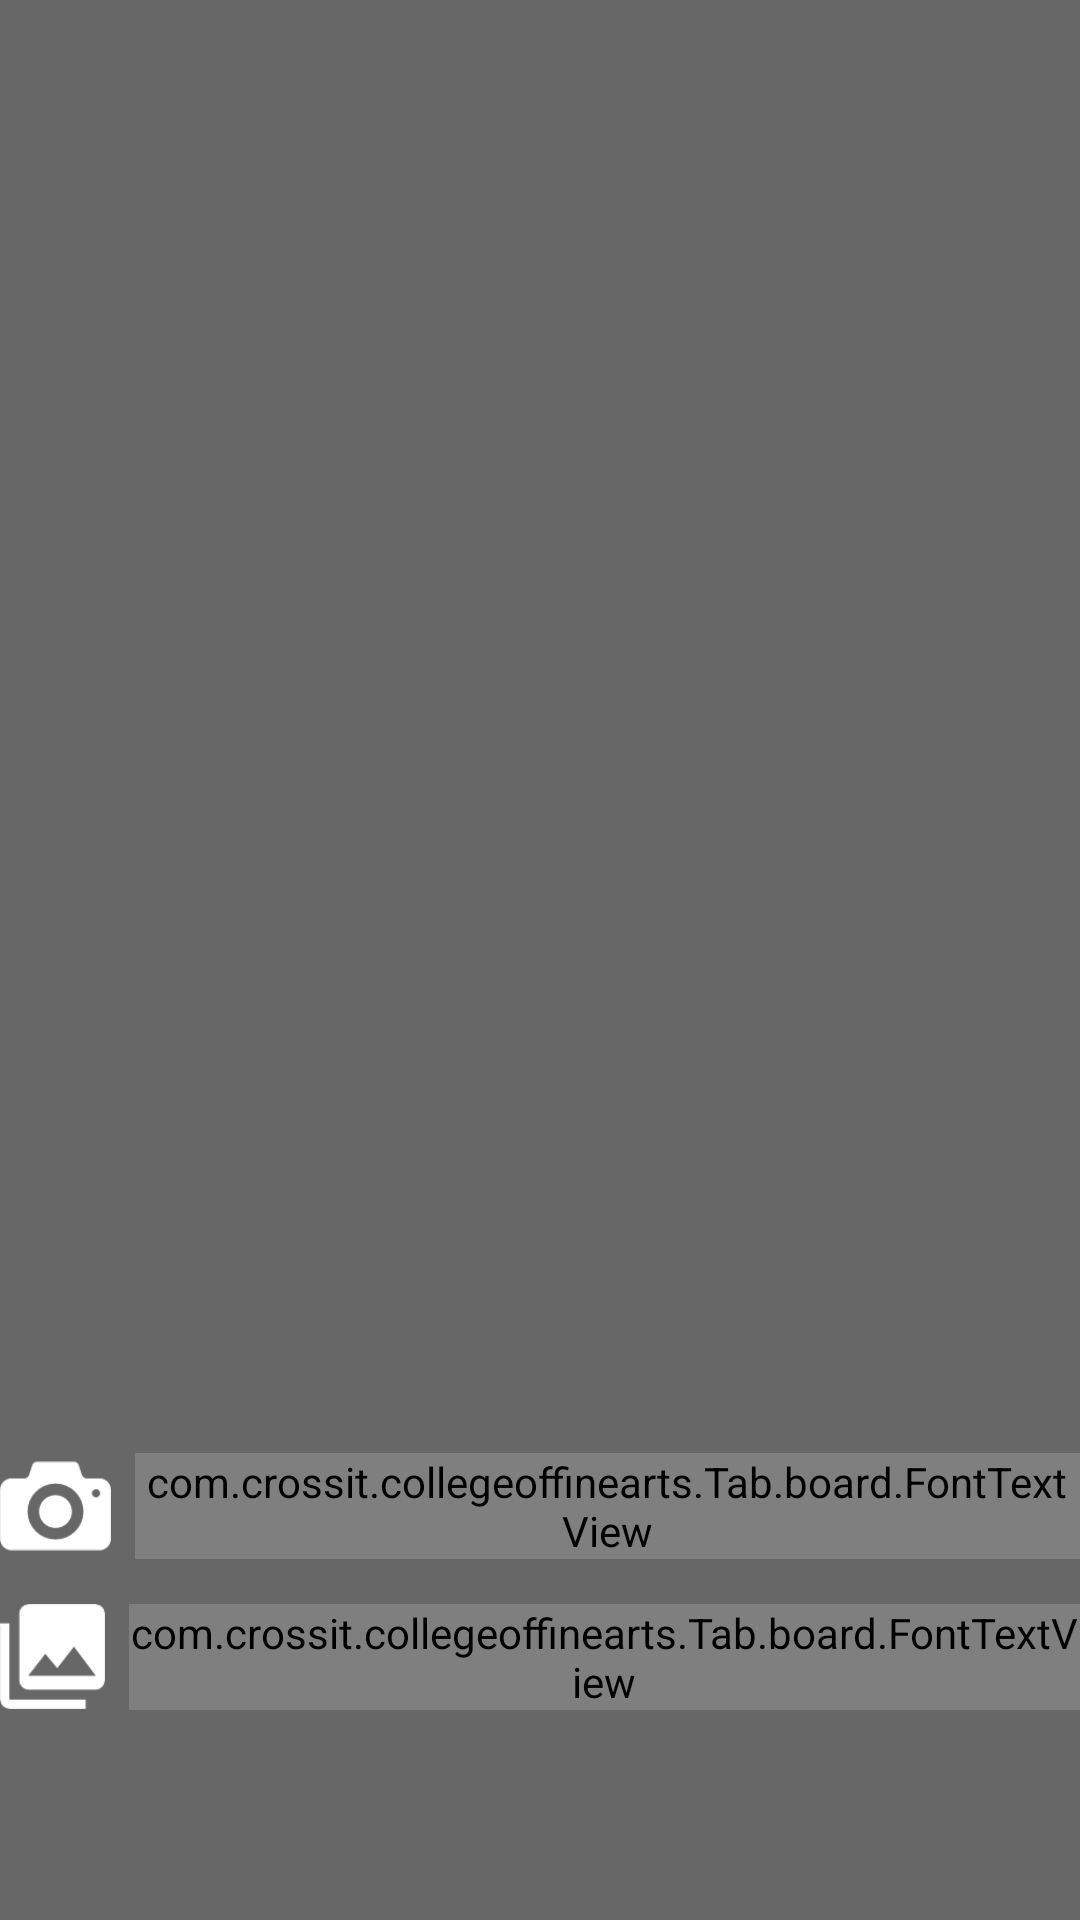

Screen size 1080 x 1920. Icon name, then its box in pixels as (x1,y1,x2,y2):
camera: (0,1461,111,1551)
gallery: (0,1604,105,1709)
